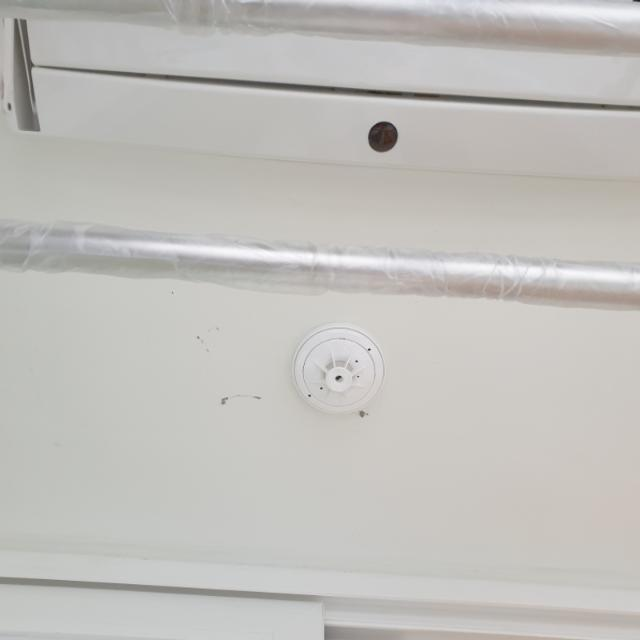Smoke-Detector: (292, 322, 388, 418)
